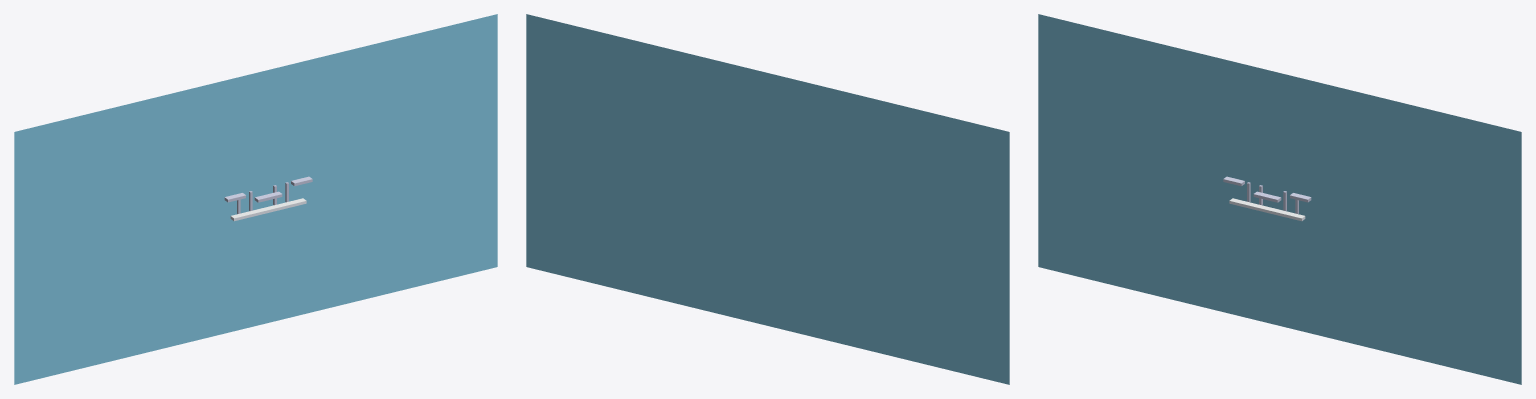
The model's file is cloudCitadel.glb.
The picture shows the model from 3 angles, left to right: view 1: azimuth 30°, elevation 25°; view 2: azimuth 150°, elevation 25°; view 3: azimuth 330°, elevation 25°; orthographic projection.
Parts seen in each view (by area): view 1: background; view 2: background; view 3: background.
Part boxes in pixels (<box>): background: <box>14,14,497,384</box>; background: <box>526,14,1009,384</box>; background: <box>1038,14,1521,384</box>.
Bounding box in the file's own units: 4000 × 2000 × 206.
